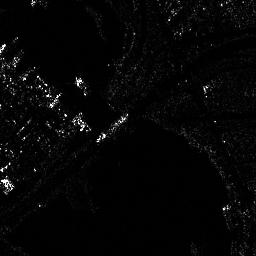ship: (96, 111, 132, 141)
